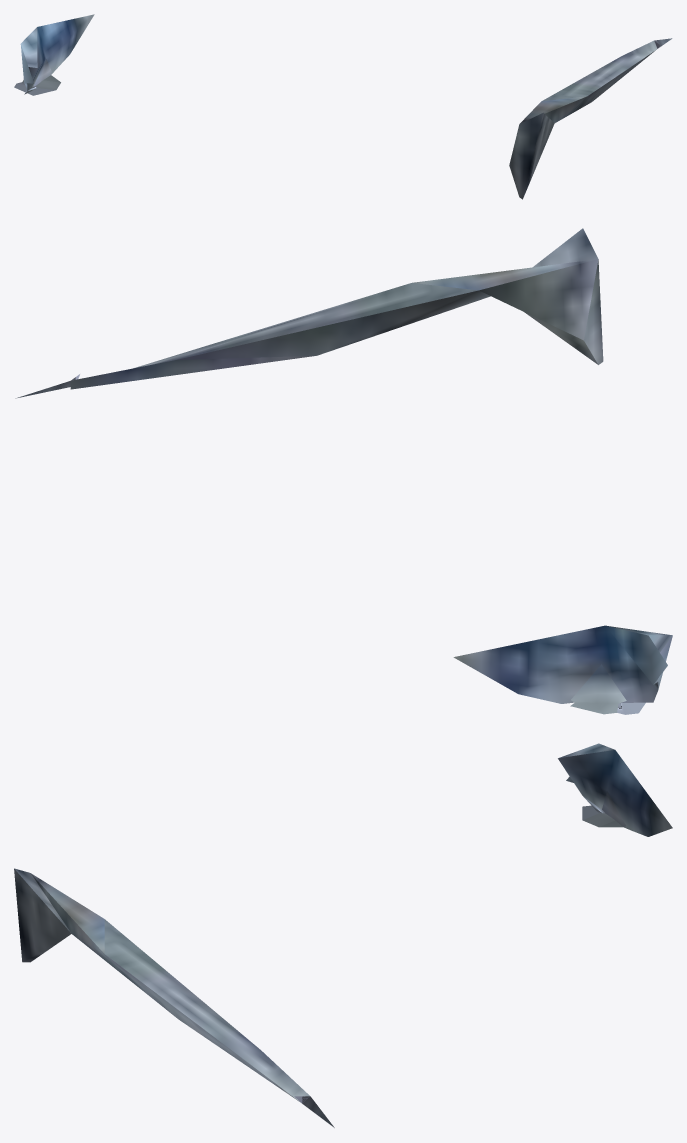
3 views of the same model, one above another, from view 1: azimuth 30°, elevation 25°; view 2: azimuth 150°, elevation 25°; view 3: azimuth 270°, elevation 25° (orthographic). The views are drawn at different scales.
Parts seen in each view (by area): view 1: 30436272704361615425_0; view 2: 30436272704361615425_0; view 3: 30436272704361615425_0.
Boxes of the visible parts, box(x1,y1,x2,y2) form: 30436272704361615425_0: box(14, 14, 672, 199); 30436272704361615425_0: box(15, 228, 672, 714); 30436272704361615425_0: box(14, 743, 672, 1127).
Bounding box in the file's own units: 14.42 × 2.16 × 12.34.
1 material, 1 textured.
